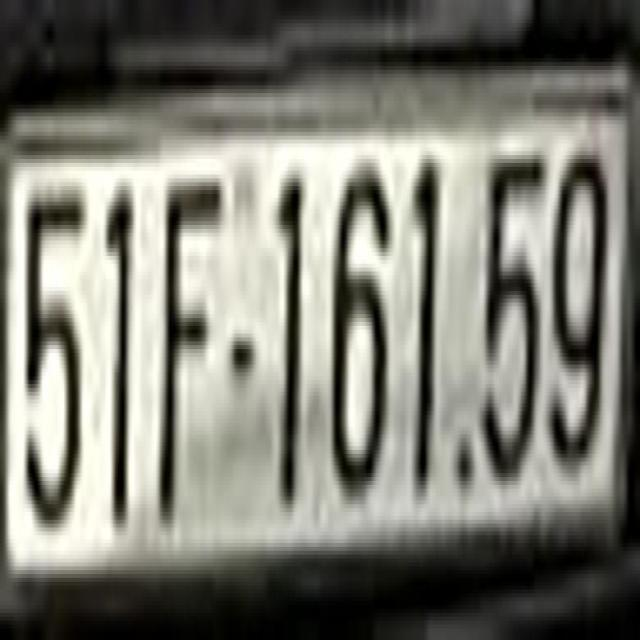1: (98, 182, 134, 528), (272, 159, 304, 504), (404, 147, 434, 512)
5: (24, 182, 80, 516), (488, 158, 542, 466)
6: (330, 159, 390, 528)
9: (549, 147, 608, 466)
F: (159, 170, 223, 528)
